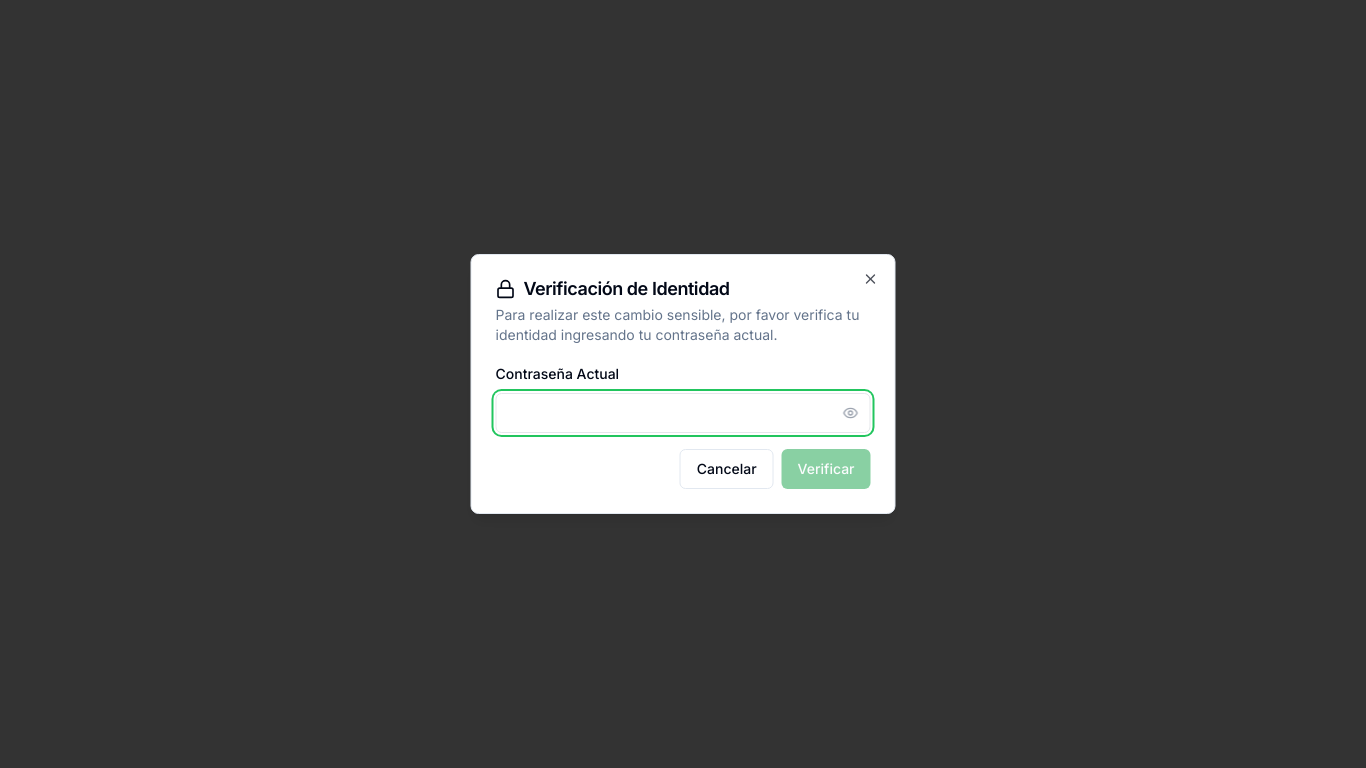
VerifyPasswordDialog › debe mostrar error cuando contraseña es incorrecta
Type "wrongPassword" into the password field labelled "Contraseña Actual" at [683, 413], box 496,393 -> 870,433
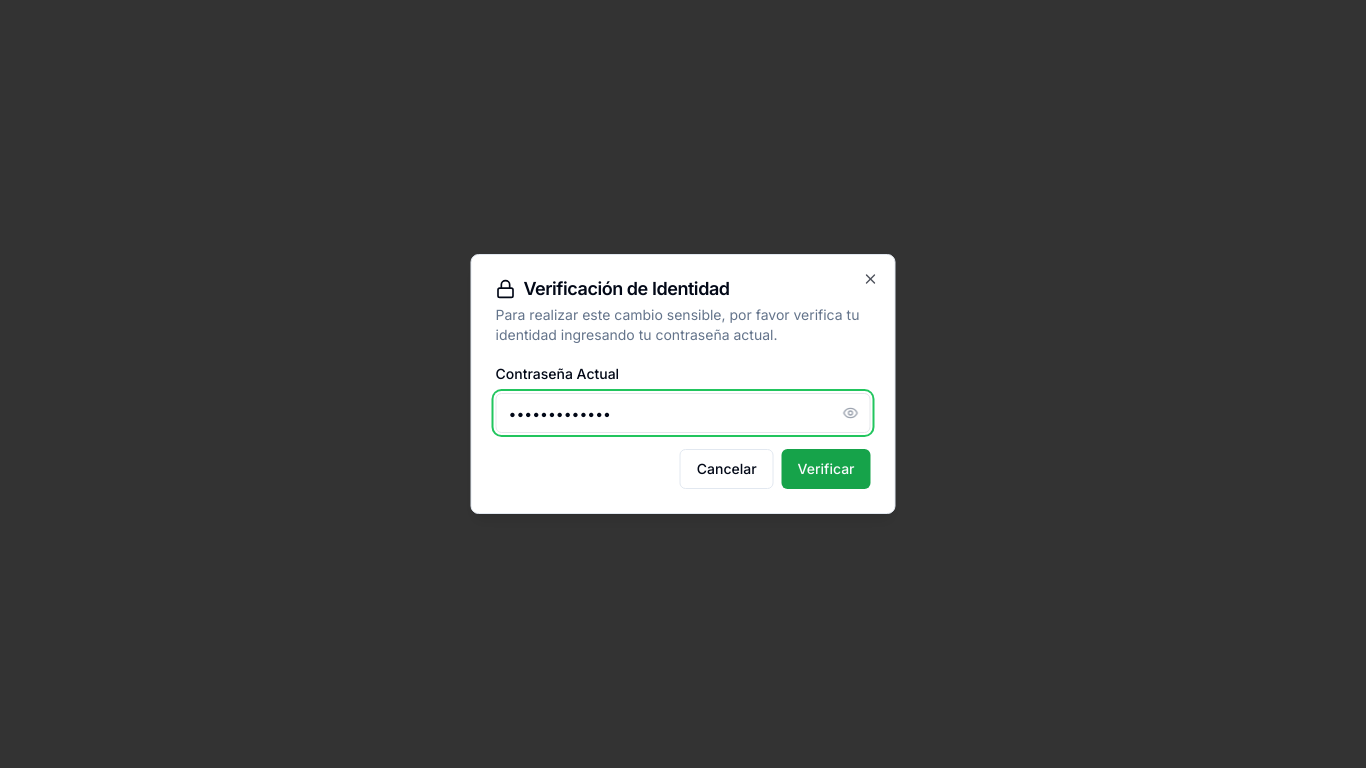
Click the button "Verificar" at [826, 469], box 782,449 -> 870,489
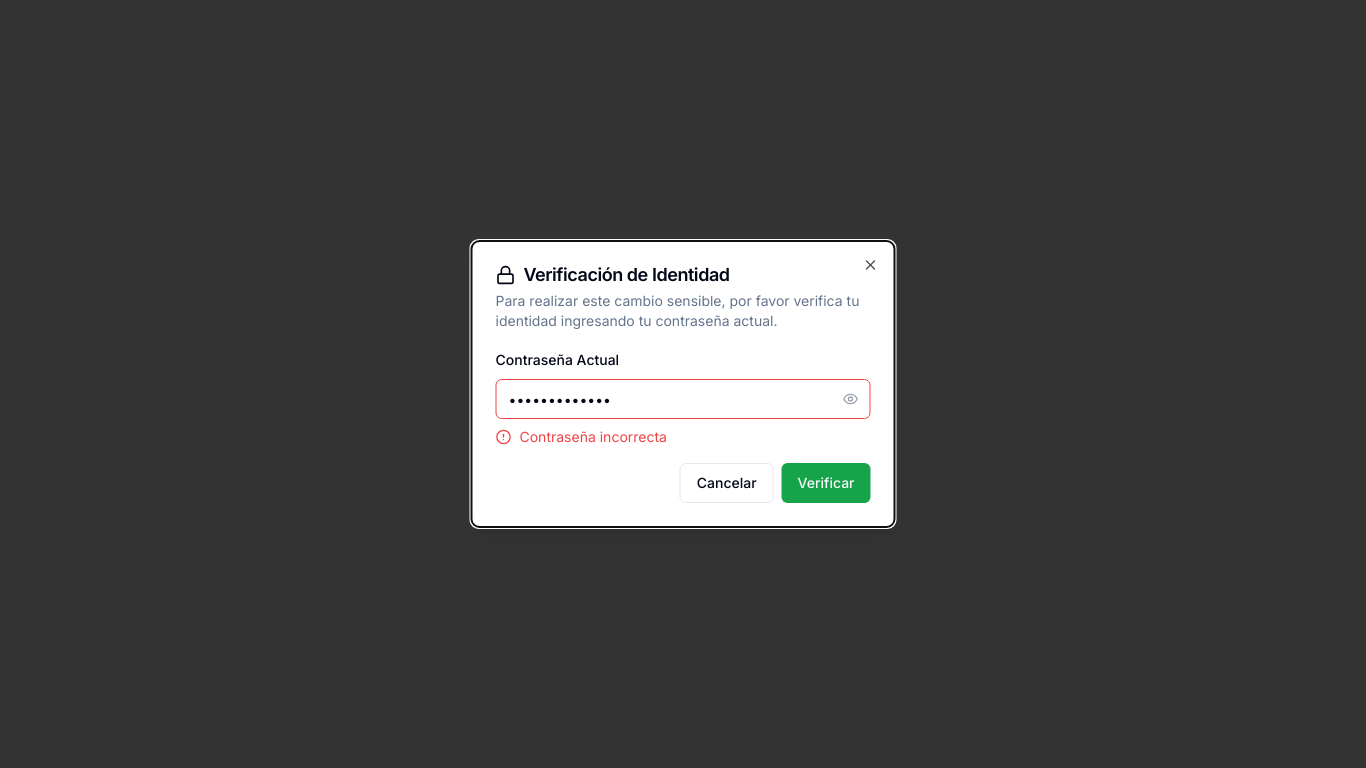
Check: the text "Contraseña incorrecta" is shown, box 496,428 -> 667,445
